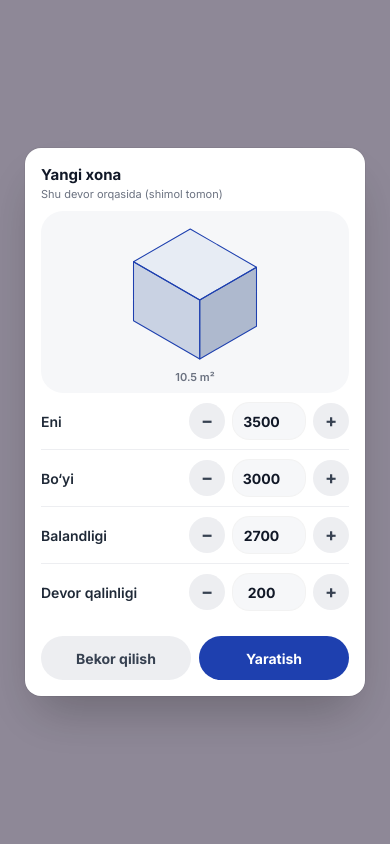
Test: NewRoomSheet › steps by 10 cm
Click the button named "Eni oshirish". click: click(331, 421)
box: [313, 403, 349, 439]
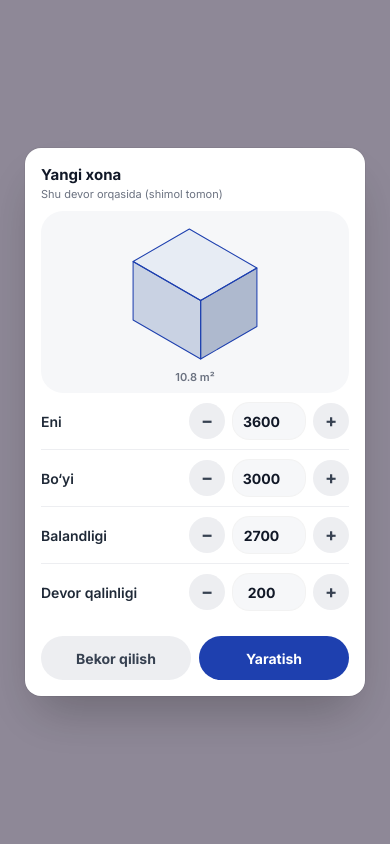
Expected: the number field named "Eni, mm" holds "3600", [233, 403, 305, 439]
